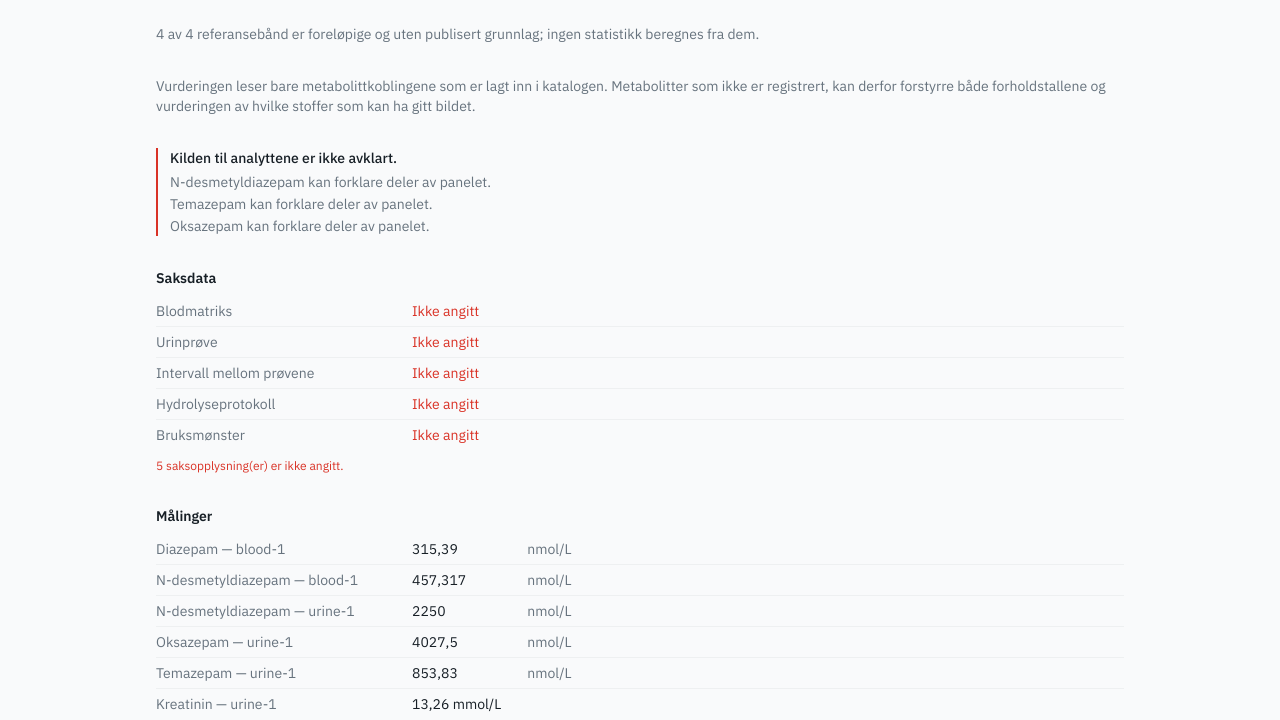
editing does not invent values › refuses an entry that could mean two things a thousandfold apart
Replace the text in the field named "Diazepam" with "1,500" at (468, 549), box [412,539,524,559]
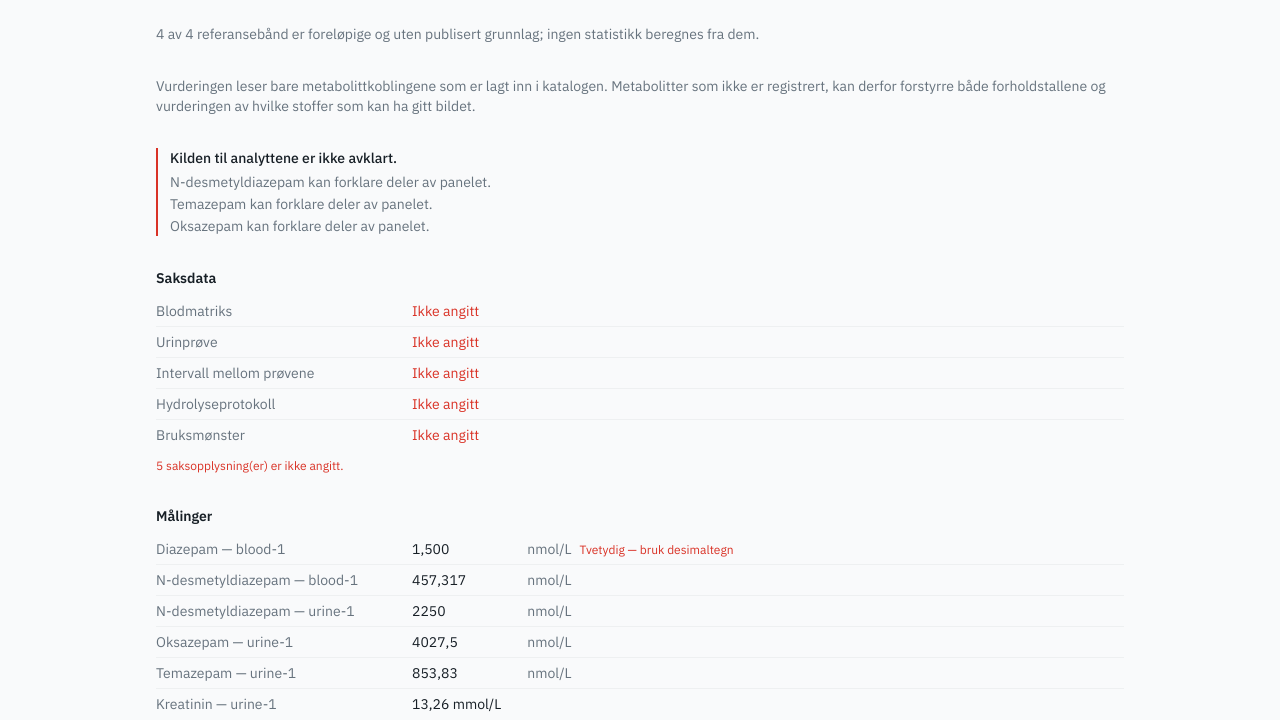
Now the text "Tvetydig — bruk desimaltegn" is shown, box [580,542,734,557]
